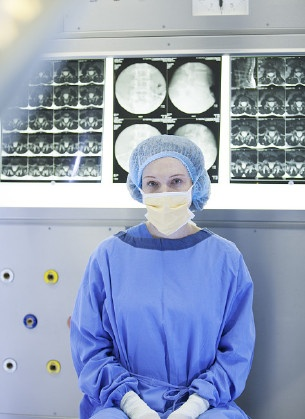Mask: (138, 172, 198, 232)
